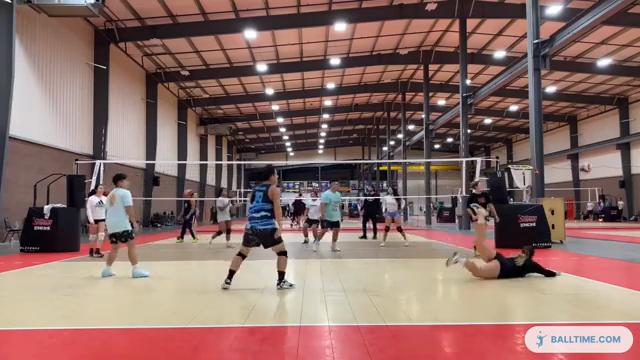difesa: (433, 202, 564, 276)
